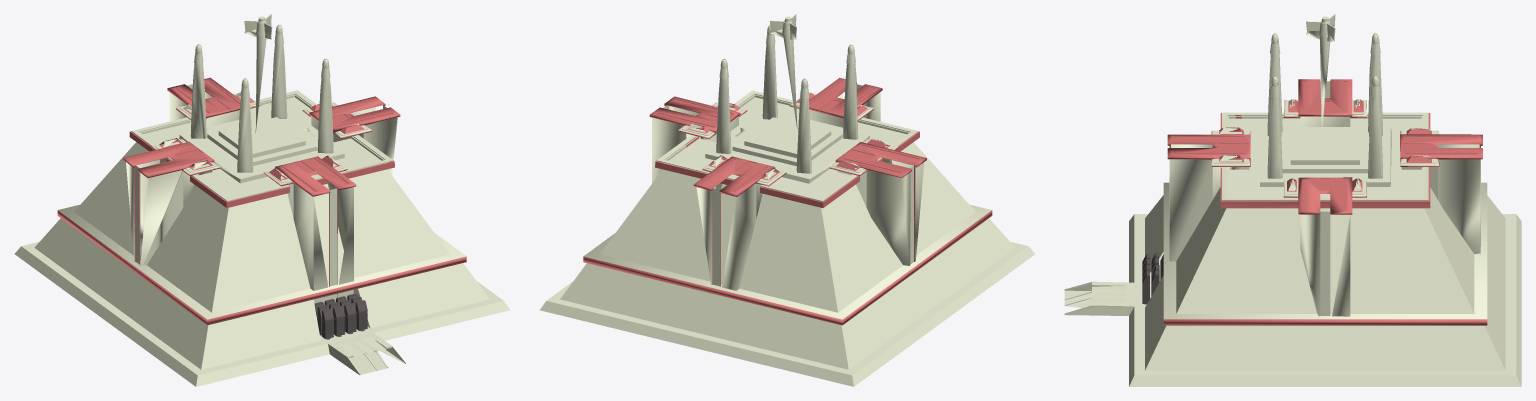
The model's file is jeditemple.lod1.glb.
3 views of the same model, side by side, from view 1: azimuth 30°, elevation 25°; view 2: azimuth 150°, elevation 25°; view 3: azimuth 270°, elevation 25° (orthographic). The views are drawn at different scales.
Parts seen in each view (by area): view 1: Box002_02 - Default_0, Box003_03 - Default_0, back_block003_01 - Default_0; view 2: Box002_02 - Default_0, Box003_03 - Default_0; view 3: Box002_02 - Default_0, Box003_03 - Default_0, back_block003_01 - Default_0.
Boxes of the visible parts, x1=… form: Box002_02 - Default_0: x1=15, y1=14, x2=510, y2=386; Box003_03 - Default_0: x1=57, y1=77, x2=466, y2=325; back_block003_01 - Default_0: x1=314, y1=293, x2=367, y2=339; Box002_02 - Default_0: x1=540, y1=14, x2=1034, y2=386; Box003_03 - Default_0: x1=583, y1=78, x2=992, y2=325; Box002_02 - Default_0: x1=1064, y1=14, x2=1521, y2=386; Box003_03 - Default_0: x1=1163, y1=79, x2=1487, y2=325; back_block003_01 - Default_0: x1=1142, y1=252, x2=1163, y2=304.
Bounding box in the file's own units: 258 × 207 × 300.
